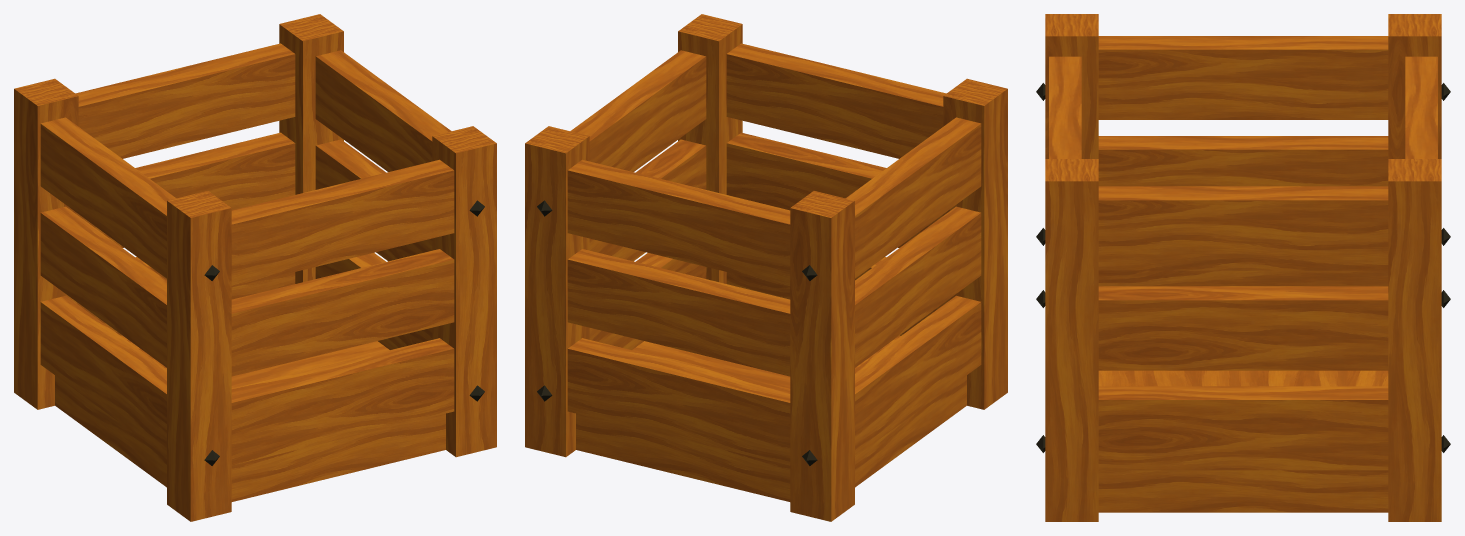
The model's file is crate.obj.
3 views of the same model, side by side, from view 1: azimuth 30°, elevation 25°; view 2: azimuth 150°, elevation 25°; view 3: azimuth 270°, elevation 25° (orthographic). The views are drawn at different scales.
Visible parts, largest first — view 1: crate; view 2: crate; view 3: crate.
Part boxes in pixels (x1,y1,x2,y2): crate: [14, 14, 496, 521]; crate: [525, 14, 1007, 521]; crate: [1036, 14, 1450, 521].
Bounding box in the file's own units: 0.485 × 0.46 × 0.508.
2 materials, 2 textured.
